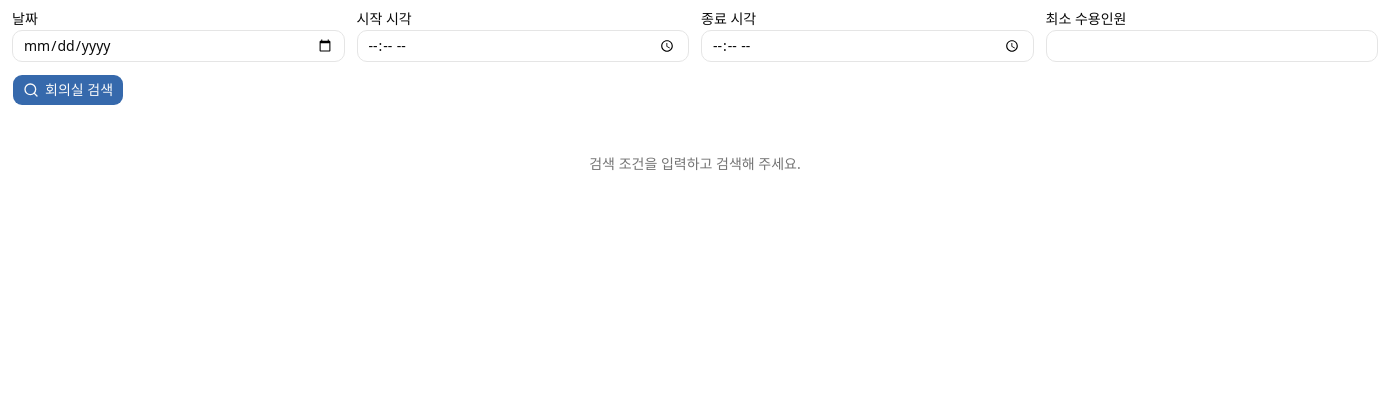
MeetingRoomSearchAndSelect - 검색 전/후 › 검색 제출 시 확정 파라미터로 조회해 카드 목록을 렌더한다
Type "2026-07-10" into the date field labelled "날짜". click: (178, 46)
box: [12, 30, 344, 62]
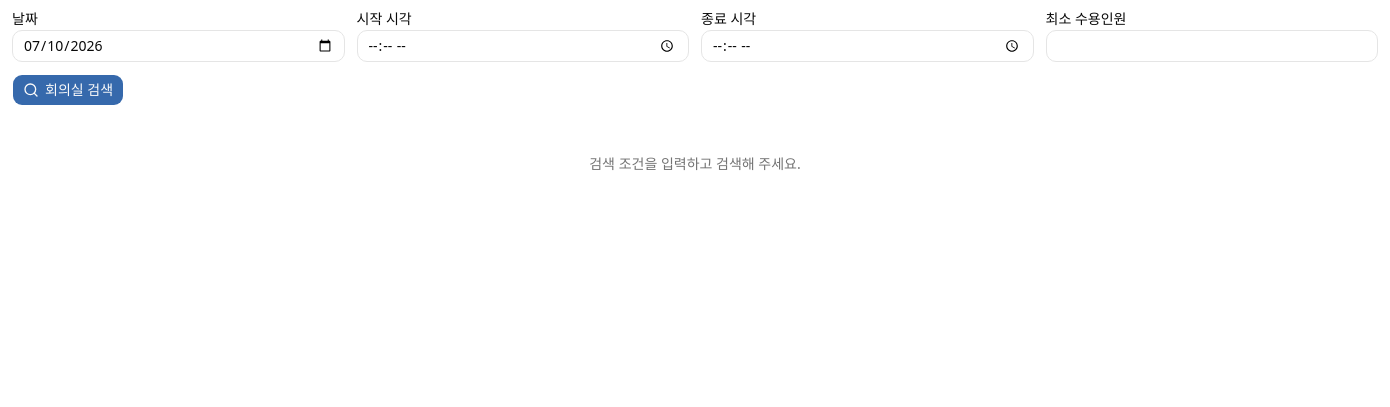
Type "10:00" into the time field labelled "시작 시각". click: (523, 46)
box: [356, 30, 689, 62]
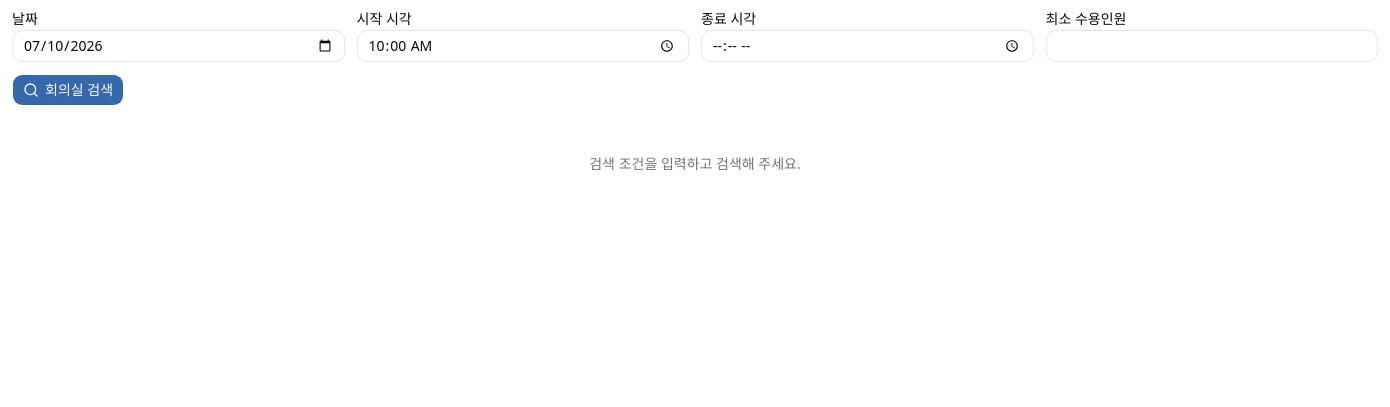
Type "11:00" into the time field labelled "종료 시각". click: (867, 46)
box: [701, 30, 1034, 62]
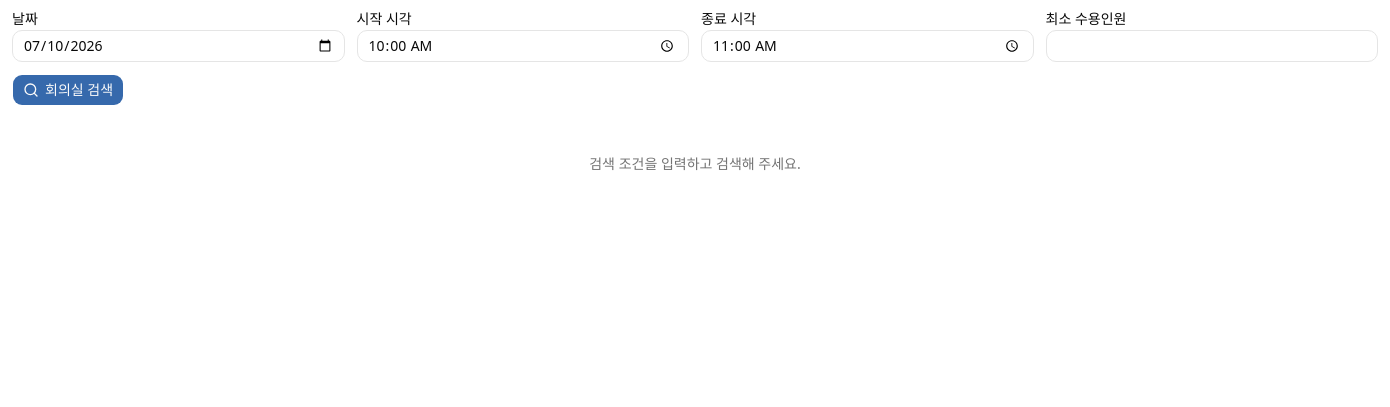
Type "4" into the number field labelled "최소 수용인원". click: (1212, 46)
box: [1046, 30, 1378, 62]
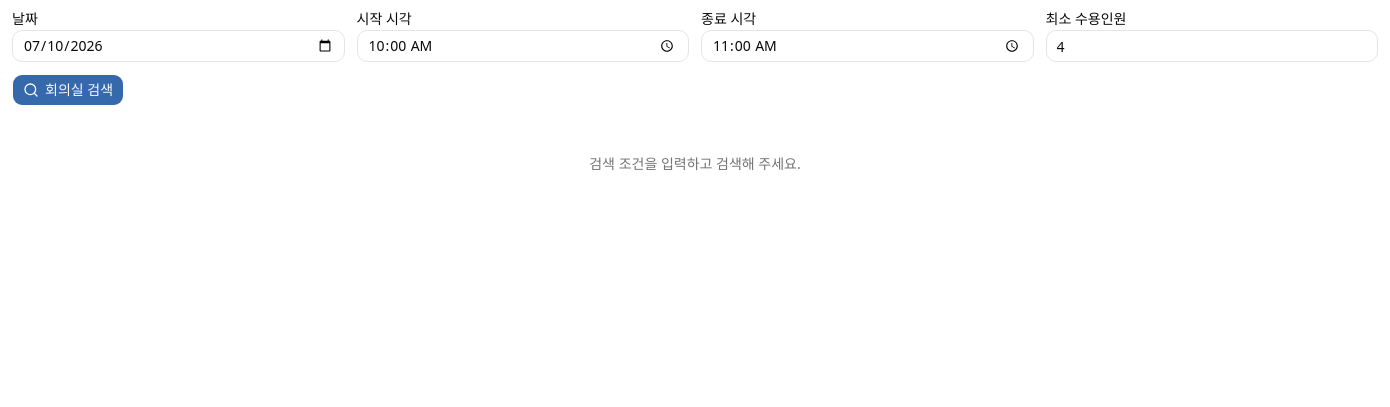
Click the button "회의실 검색". click: (68, 90)
box: [12, 74, 124, 106]
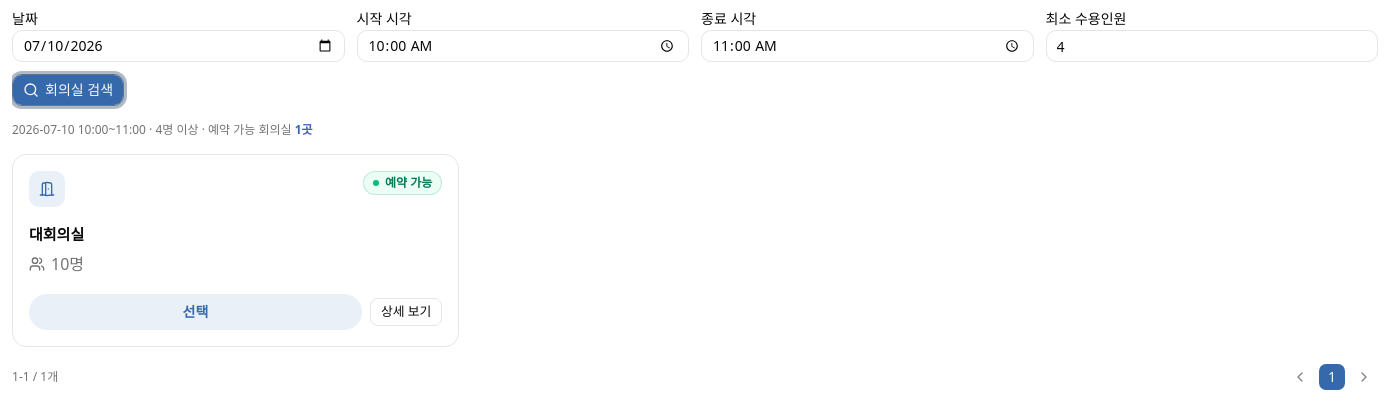
Check: the button "대회의실" is shown, box [29, 223, 84, 246]
